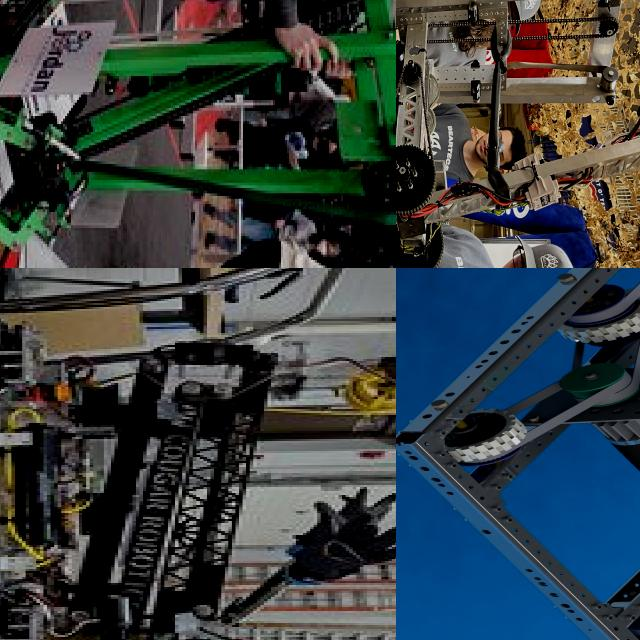FRC-Robots: (0, 320, 396, 640), (0, 0, 396, 268), (396, 268, 640, 640), (396, 0, 637, 268)
